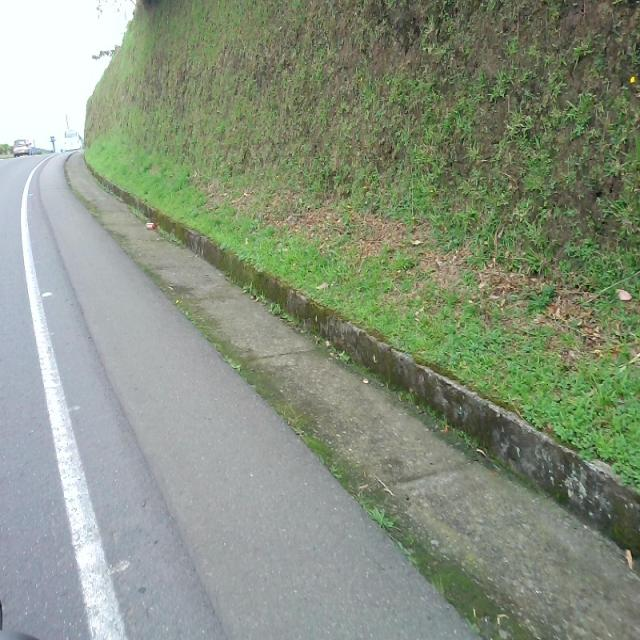DITCH: (61, 147, 638, 638)
